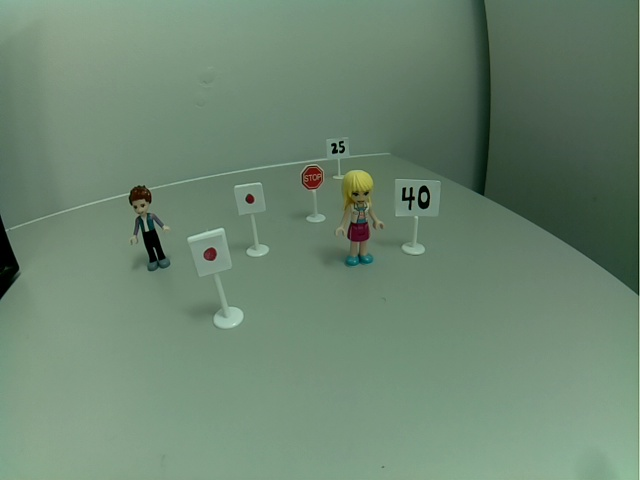people: (333, 167, 386, 267), (124, 184, 174, 273)
red light: (188, 228, 235, 279), (233, 180, 266, 217)
speed 25: (326, 136, 351, 159)
speed 40: (393, 177, 441, 219)
stop: (300, 163, 326, 192)
